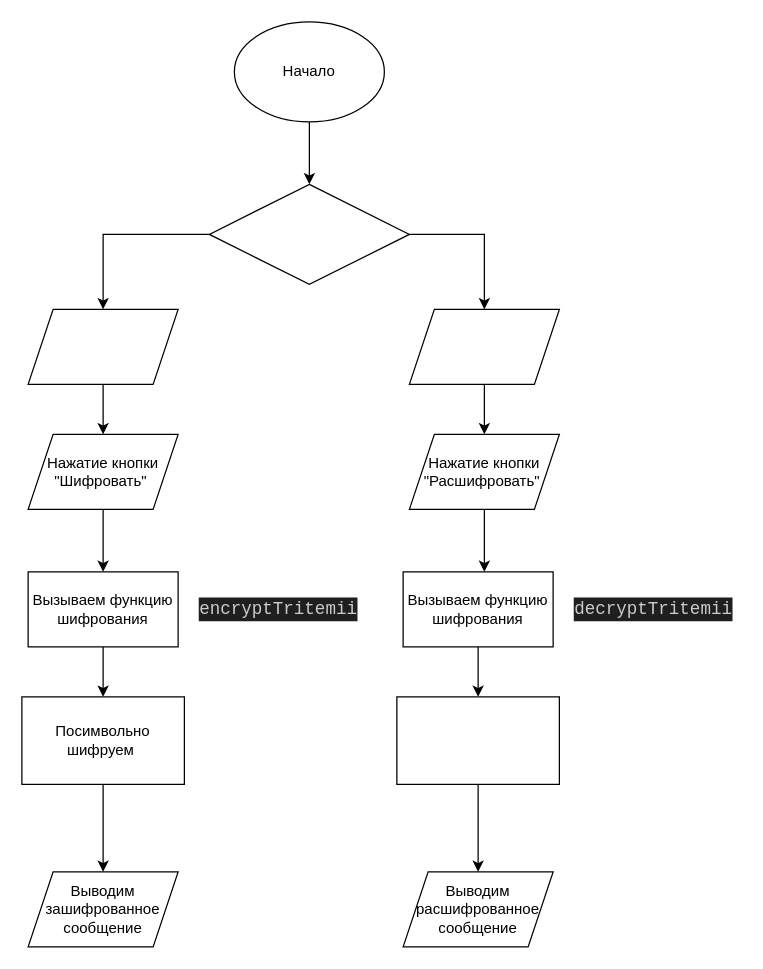
This 763x969 diagram has some shape labels left out. The shapes that lost their labels are listed below. From the top down, each one's box as (x1, y1, x2, y2) in pixels, then its label:
(208, 183, 409, 284): Выбор дальнейшего действия
(27, 308, 178, 384): Ввод данных для шифрования
(408, 308, 559, 384): Ввод данных для расшифрования
(396, 696, 559, 784): Посимвольно расшифруем
